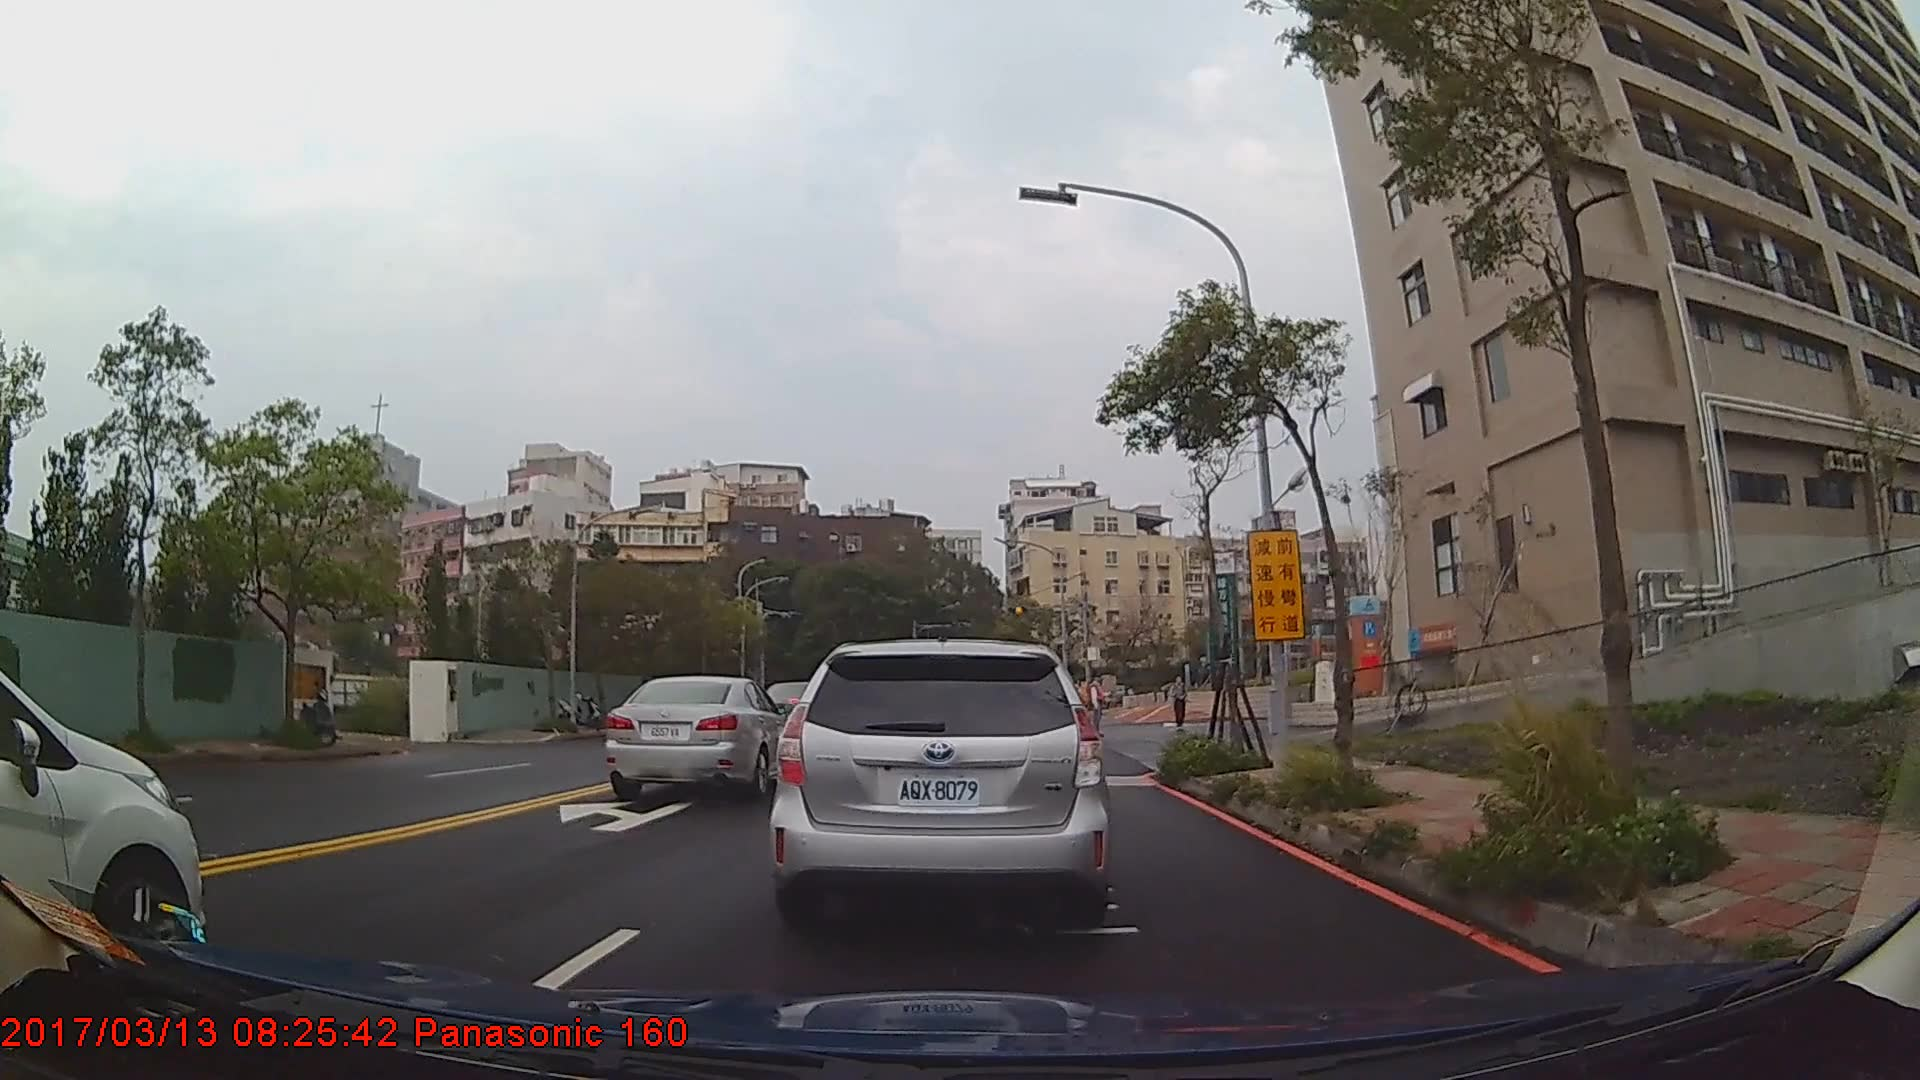pedestrian: (1086, 668, 1112, 742), (1172, 677, 1192, 732)
vehicle: (769, 637, 1113, 943), (0, 669, 205, 970), (606, 674, 794, 800)
